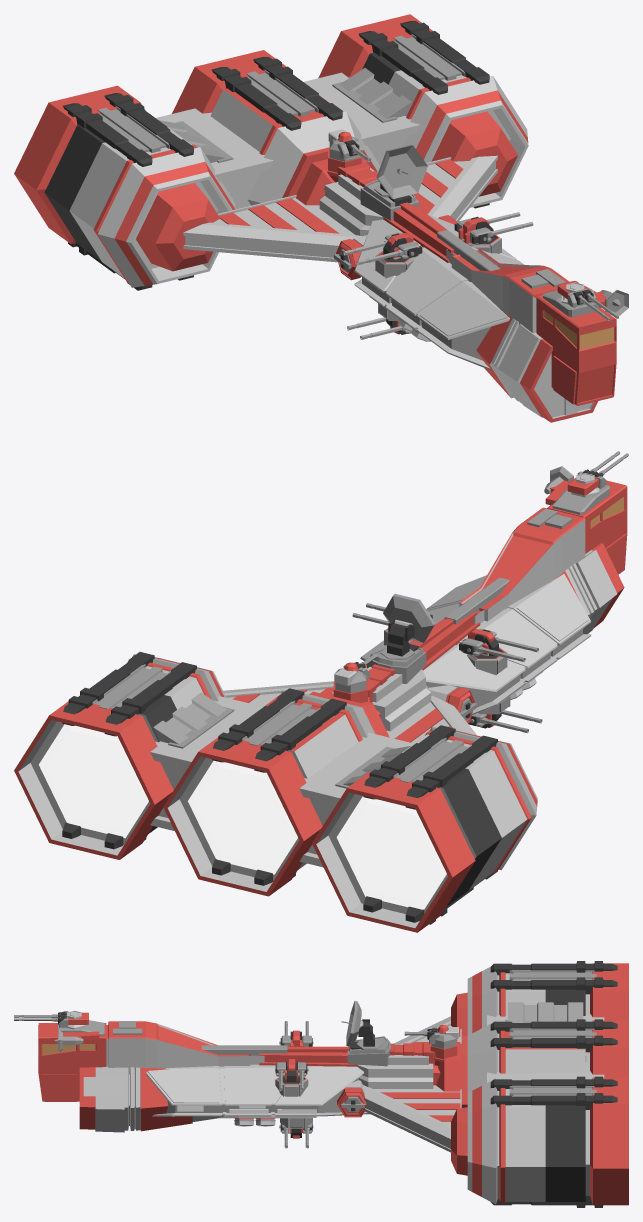
The picture shows the model from 3 angles, top to bottom: view 1: azimuth 30°, elevation 25°; view 2: azimuth 150°, elevation 25°; view 3: azimuth 270°, elevation 25°; orthographic projection. The views are drawn at different scales.
Parts seen in each view (by area): view 1: Cube.001; view 2: Cube.001; view 3: Cube.001.
Boxes of the visible parts, <box> form: Cube.001: <box>14,14,628,422</box>; Cube.001: <box>14,451,628,932</box>; Cube.001: <box>14,961,628,1207</box>.
Size of the model in its own units: 1068 by 392 by 1647.
